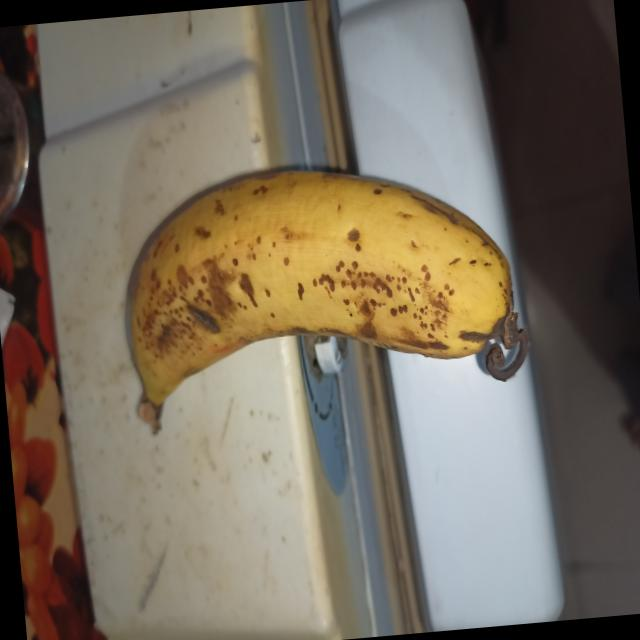banana_peel: (116, 144, 543, 451)
